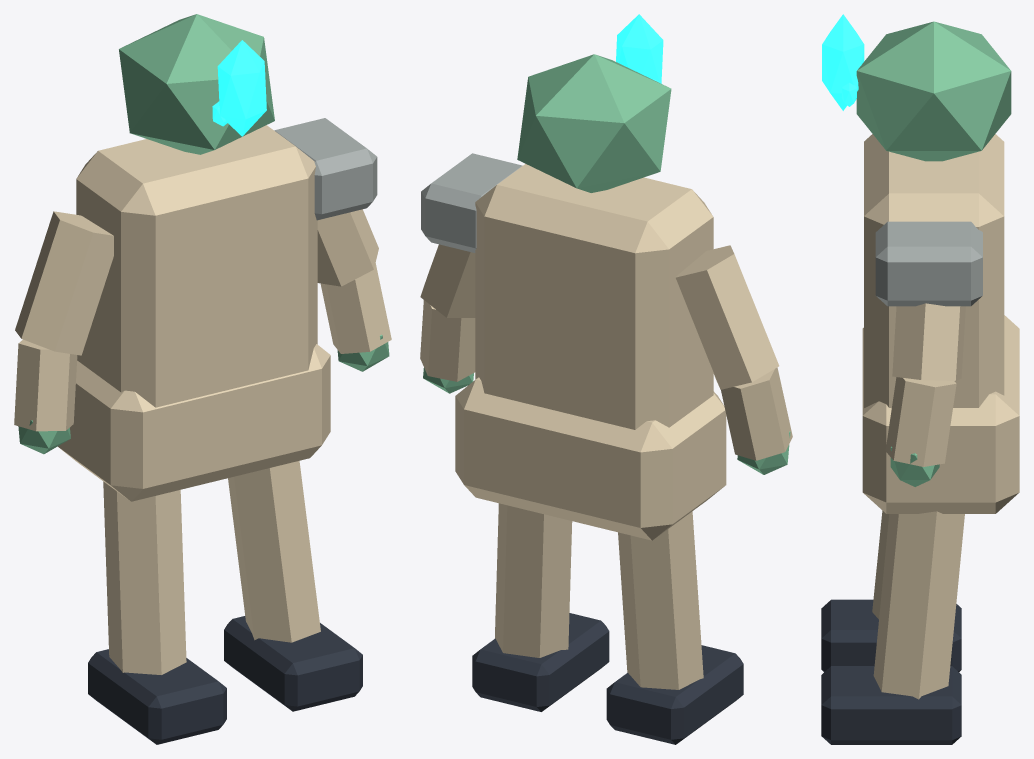
The model's file is npcs_036_seed11.glb.
3 renders of one model, left to right at view 1: azimuth 30°, elevation 25°; view 2: azimuth 150°, elevation 25°; view 3: azimuth 270°, elevation 25°, orthographic.
Visible parts, largest first — view 1: npcs_036_seed11; view 2: npcs_036_seed11; view 3: npcs_036_seed11.
Boxes of the visible parts, <box> form: npcs_036_seed11: <box>14,14,391,744</box>; npcs_036_seed11: <box>420,14,792,744</box>; npcs_036_seed11: <box>821,14,1019,744</box>.
Bounding box in the file's own units: 0.908 × 1.59 × 0.4206.
